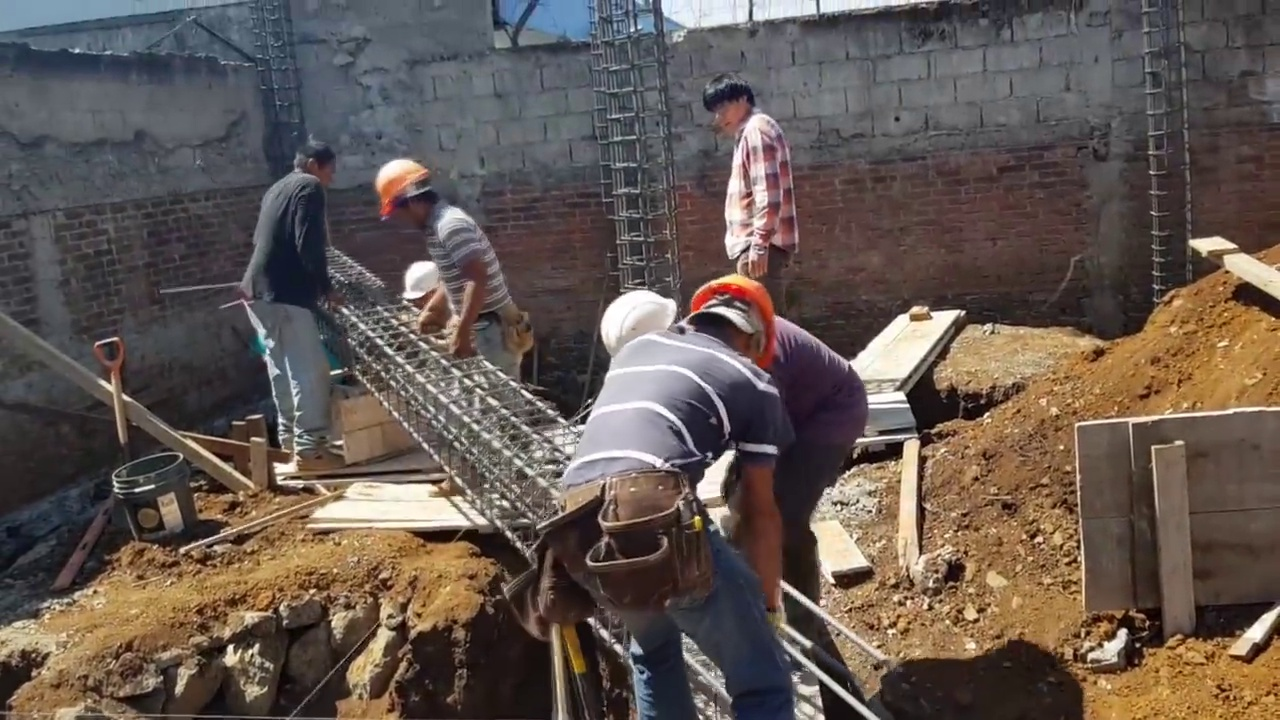helmet: (690, 279, 783, 361), (598, 290, 665, 371), (372, 159, 424, 218), (403, 262, 440, 301)
helmet-off: (704, 71, 758, 138), (289, 135, 334, 182)
helmet-on: (682, 273, 789, 377), (374, 155, 445, 232), (401, 263, 444, 317)
person: (608, 282, 874, 717), (557, 265, 794, 719), (238, 129, 338, 476), (372, 155, 522, 373), (700, 70, 795, 312), (394, 247, 457, 338)
